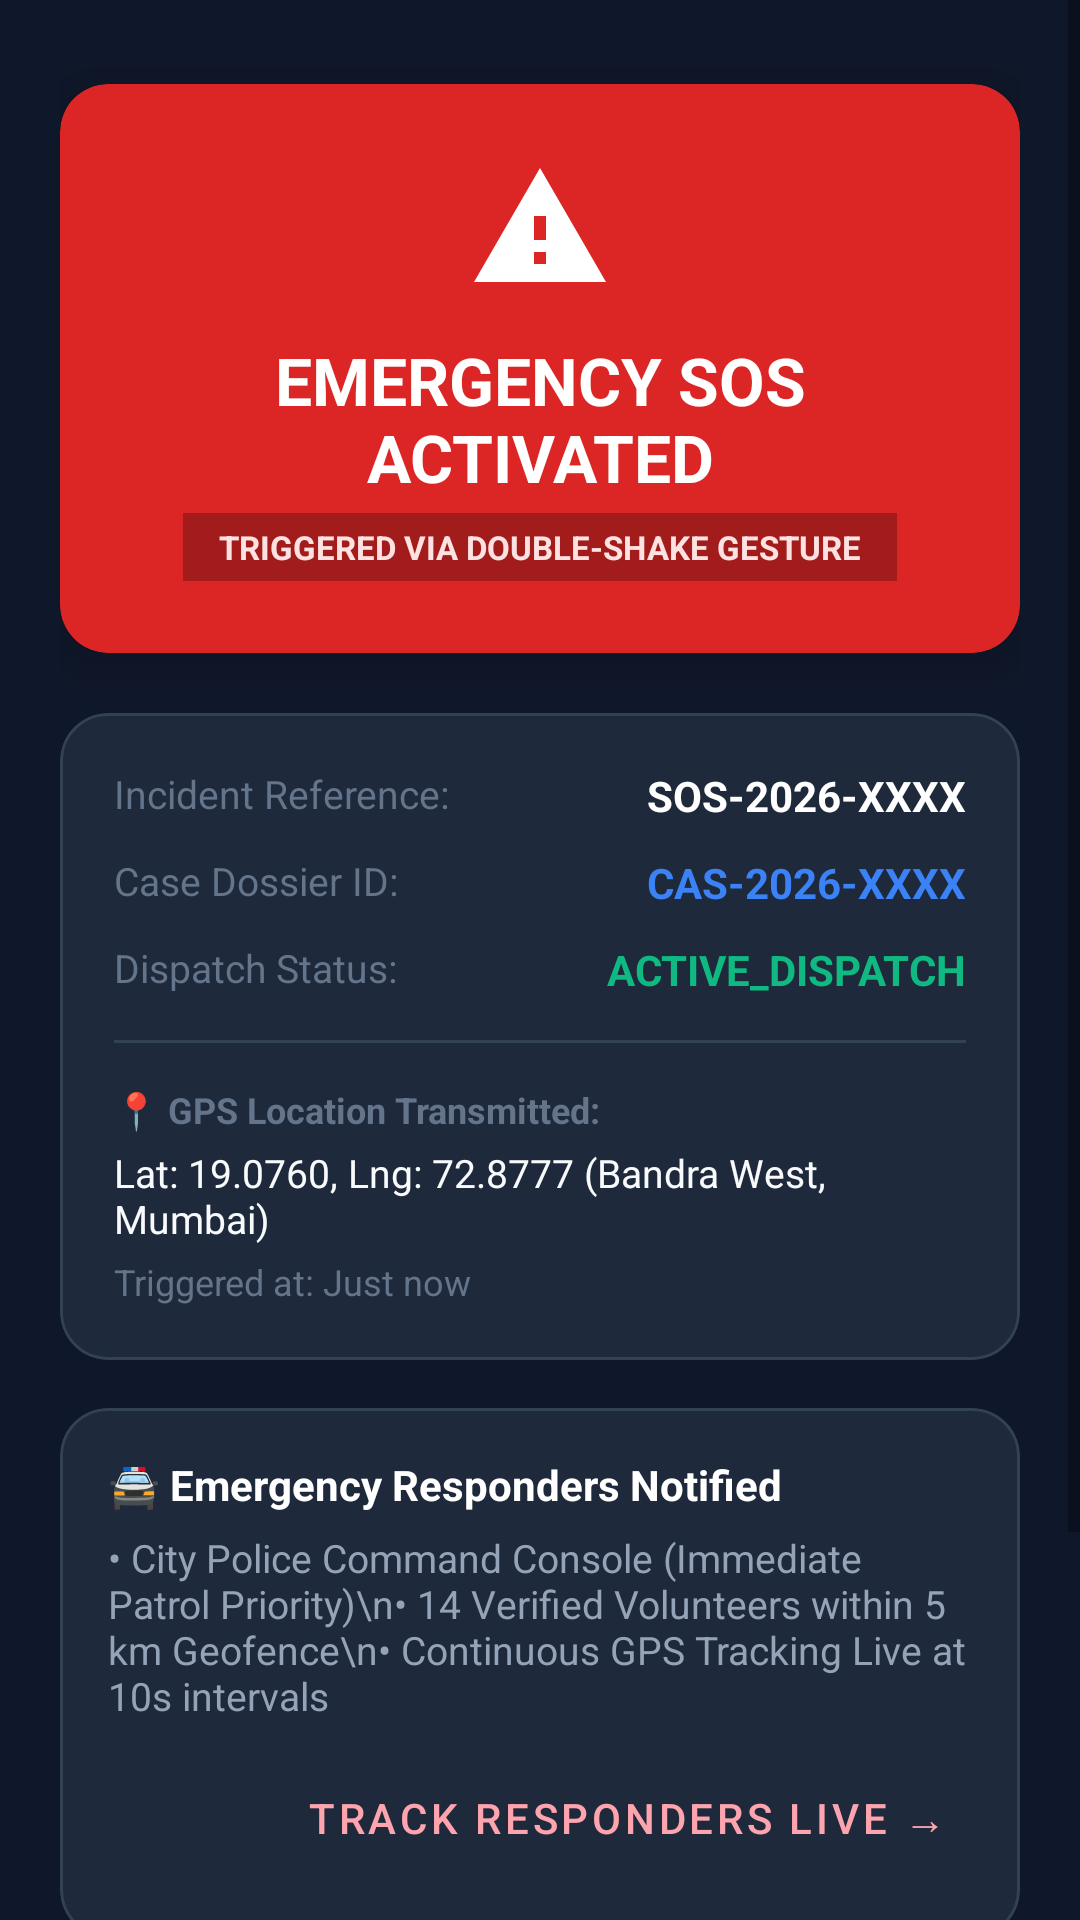

Screen size 1080w x 1920h. Icon name, then its center in pixels as (x=x, y=y):
Emergency Alarm: (x=540, y=225)
